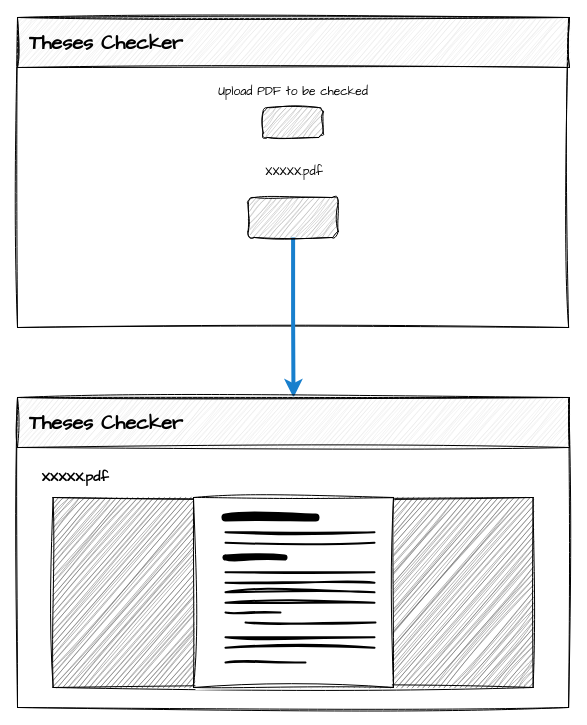
Image size: 587x725. Some labels were removed from this diagram. Here are the shapes that lost their labels. From the top down, the centre of each, then its label:
(292,122): UPLOAD
(292,217): CHECK
